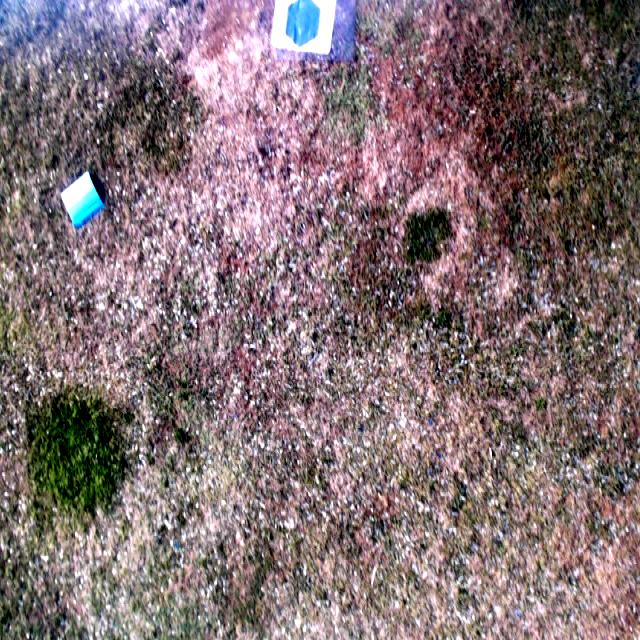blue_hexagon: (287, 1, 321, 46)
red_square: (61, 171, 103, 228)
